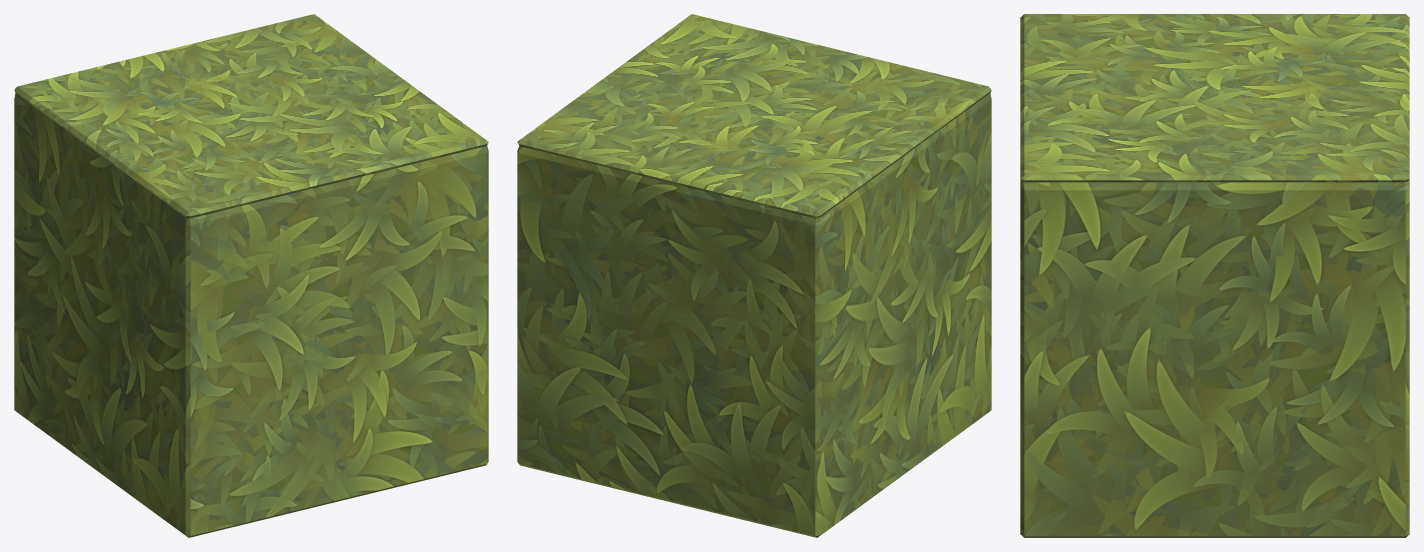
The model's file is cube_with_top1.fbx.
The picture shows the model from 3 angles, left to right: view 1: azimuth 30°, elevation 25°; view 2: azimuth 150°, elevation 25°; view 3: azimuth 270°, elevation 25°; orthographic projection. The views are drawn at different scales.
Visible parts, largest first — view 1: Cube; view 2: Cube; view 3: Cube.
Part boxes in pixels (box(x1,y1,x2,y2)): Cube: box(14, 14, 488, 537); Cube: box(517, 14, 991, 537); Cube: box(1020, 14, 1409, 537).
Bounding box in the file's own units: 200 × 206 × 200.
